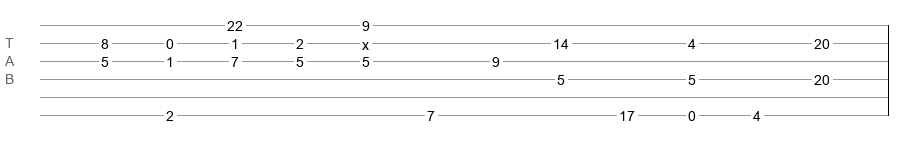0: (166, 36, 174, 46), (688, 108, 696, 118)
1: (166, 54, 174, 64), (231, 36, 239, 46)
14: (553, 36, 569, 46)
17: (619, 108, 635, 118)
2: (166, 108, 174, 118), (296, 36, 304, 46)
20: (814, 72, 830, 82), (814, 36, 830, 46)
22: (227, 18, 243, 28)
4: (688, 36, 696, 46), (753, 108, 761, 118)
5: (101, 54, 109, 64), (296, 54, 304, 64), (362, 54, 370, 64), (557, 72, 565, 82), (688, 72, 696, 82)
7: (231, 54, 239, 64), (427, 108, 435, 118)
8: (101, 36, 109, 46)
9: (362, 18, 370, 28), (492, 54, 500, 64)
x: (362, 37, 369, 45)
